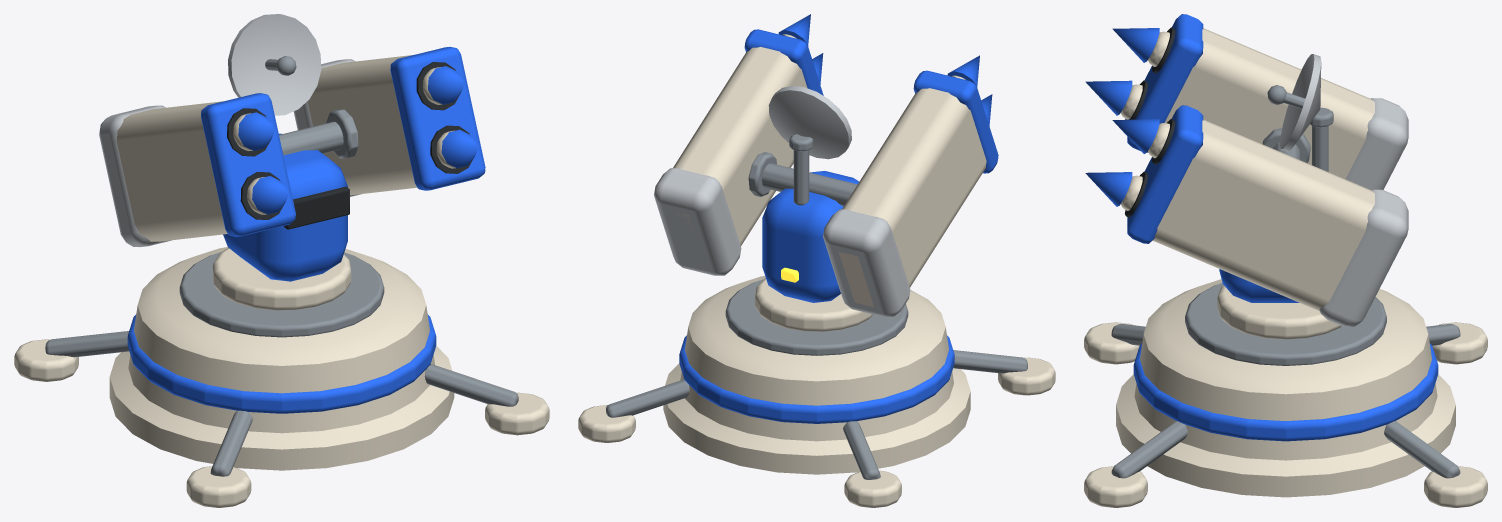
File: sam_site.glb
The picture shows the model from 3 angles, left to right: view 1: azimuth 30°, elevation 25°; view 2: azimuth 150°, elevation 25°; view 3: azimuth 270°, elevation 25°; orthographic projection. The views are drawn at different scales.
Parts seen in each view (by area): view 1: stage_1__M_CreamPlastic, barrel__M_CreamPlastic, barrel__M_Team, stage_2__M_SpringSteel, turret__M_Team, stage_1__M_Team, radar_dish__M_Foil, stage_0__M_CreamPlastic, turret__M_CreamPlastic, stage_0__M_SpringSteel, barrel__M_Foil, barrel__M_SpringSteel (+6 smaller); view 2: stage_1__M_CreamPlastic, barrel__M_CreamPlastic, barrel__M_Foil, turret__M_Team, stage_1__M_Team, stage_2__M_SpringSteel, stage_0__M_CreamPlastic, radar_dish__M_Foil, stage_0__M_SpringSteel, barrel__M_Team, turret__M_CreamPlastic, barrel__M_SpringSteel (+1 smaller); view 3: stage_1__M_CreamPlastic, barrel__M_CreamPlastic, barrel__M_Foil, barrel__M_Team, stage_0__M_CreamPlastic, stage_2__M_SpringSteel, stage_1__M_Team, stage_0__M_SpringSteel, turret__M_CreamPlastic, radar_dish__M_Foil, turret__M_Team, barrel__M_Dark (+7 smaller).
Boxes of the visible parts, bbox=[...] form: stage_1__M_CreamPlastic: bbox=[109, 247, 454, 470]; barrel__M_CreamPlastic: bbox=[116, 55, 416, 241]; barrel__M_Team: bbox=[201, 47, 485, 236]; stage_2__M_SpringSteel: bbox=[179, 251, 384, 337]; turret__M_Team: bbox=[223, 133, 347, 281]; stage_1__M_Team: bbox=[127, 314, 436, 413]; radar_dish__M_Foil: bbox=[228, 14, 321, 115]; stage_0__M_CreamPlastic: bbox=[14, 339, 549, 507]; turret__M_CreamPlastic: bbox=[212, 248, 351, 310]; stage_0__M_SpringSteel: bbox=[45, 331, 518, 476]; barrel__M_Foil: bbox=[99, 59, 361, 247]; barrel__M_SpringSteel: bbox=[279, 109, 358, 158]; stage_1__M_CreamPlastic: bbox=[663, 275, 970, 474]; barrel__M_CreamPlastic: bbox=[673, 47, 986, 307]; barrel__M_Foil: bbox=[654, 168, 910, 316]; turret__M_Team: bbox=[762, 171, 858, 302]; stage_1__M_Team: bbox=[679, 335, 954, 423]; stage_2__M_SpringSteel: bbox=[725, 279, 908, 355]; stage_0__M_CreamPlastic: bbox=[578, 357, 1055, 507]; radar_dish__M_Foil: bbox=[768, 85, 851, 159]; stage_0__M_SpringSteel: bbox=[606, 350, 1027, 479]; barrel__M_Team: bbox=[744, 29, 998, 173]; turret__M_CreamPlastic: bbox=[755, 278, 872, 331]; barrel__M_SpringSteel: bbox=[748, 152, 857, 206]; stage_1__M_CreamPlastic: bbox=[1116, 279, 1455, 497]; barrel__M_CreamPlastic: bbox=[1153, 28, 1374, 310]; barrel__M_Foil: bbox=[1319, 98, 1408, 326]; barrel__M_Team: bbox=[1127, 14, 1203, 243]; stage_0__M_CreamPlastic: bbox=[1084, 322, 1487, 507]; stage_2__M_SpringSteel: bbox=[1185, 283, 1386, 365]; stage_1__M_Team: bbox=[1133, 343, 1438, 441]; stage_0__M_SpringSteel: bbox=[1111, 324, 1460, 478]; turret__M_CreamPlastic: bbox=[1217, 285, 1341, 339]; radar_dish__M_Foil: bbox=[1280, 54, 1321, 151]; turret__M_Team: bbox=[1219, 269, 1299, 302]; barrel__M_Dark: bbox=[1125, 27, 1175, 217].
Size of the model in its own units: 0.8789 by 0.8818 by 0.8789.
